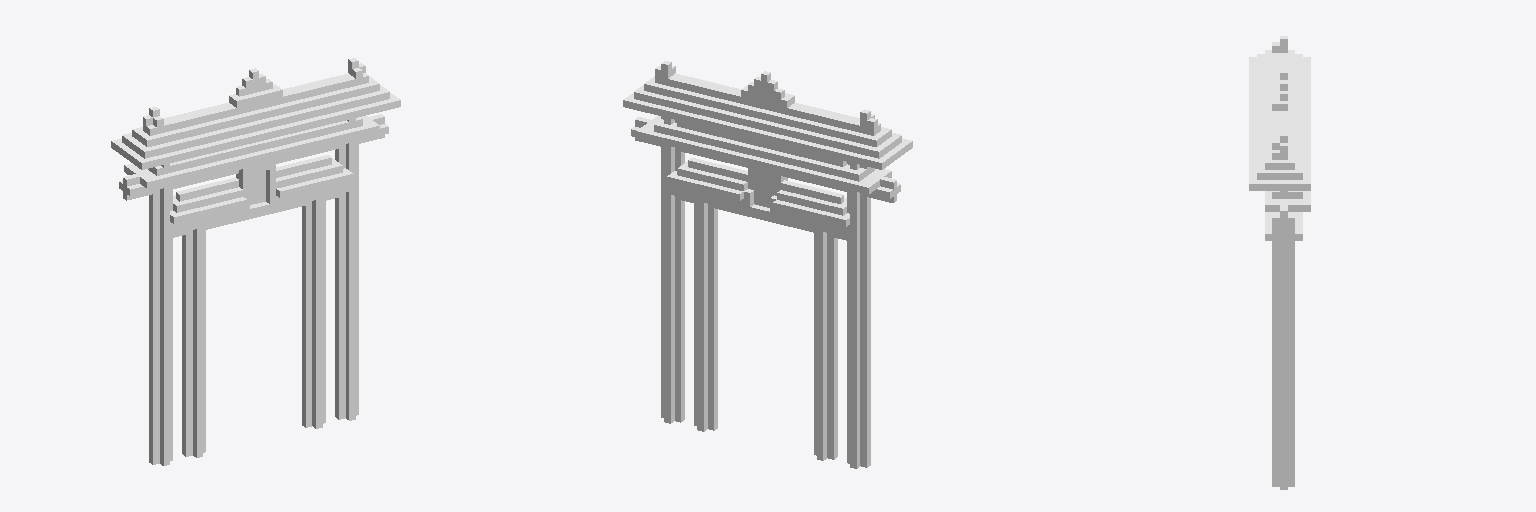
The model's file is MonGate.obj.
3 renders of one model, left to right at view 1: azimuth 30°, elevation 25°; view 2: azimuth 150°, elevation 25°; view 3: azimuth 270°, elevation 25°, orthographic.
Size of the model in its own units: 39 by 53 by 8.